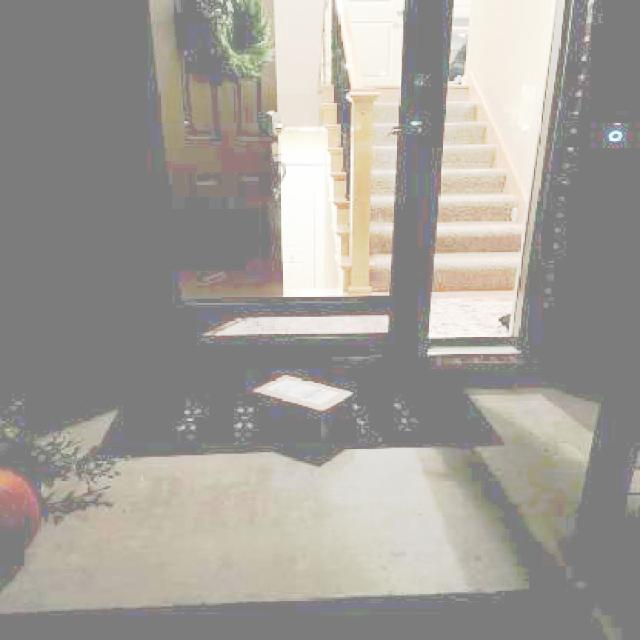Box: (255, 376, 354, 444)
